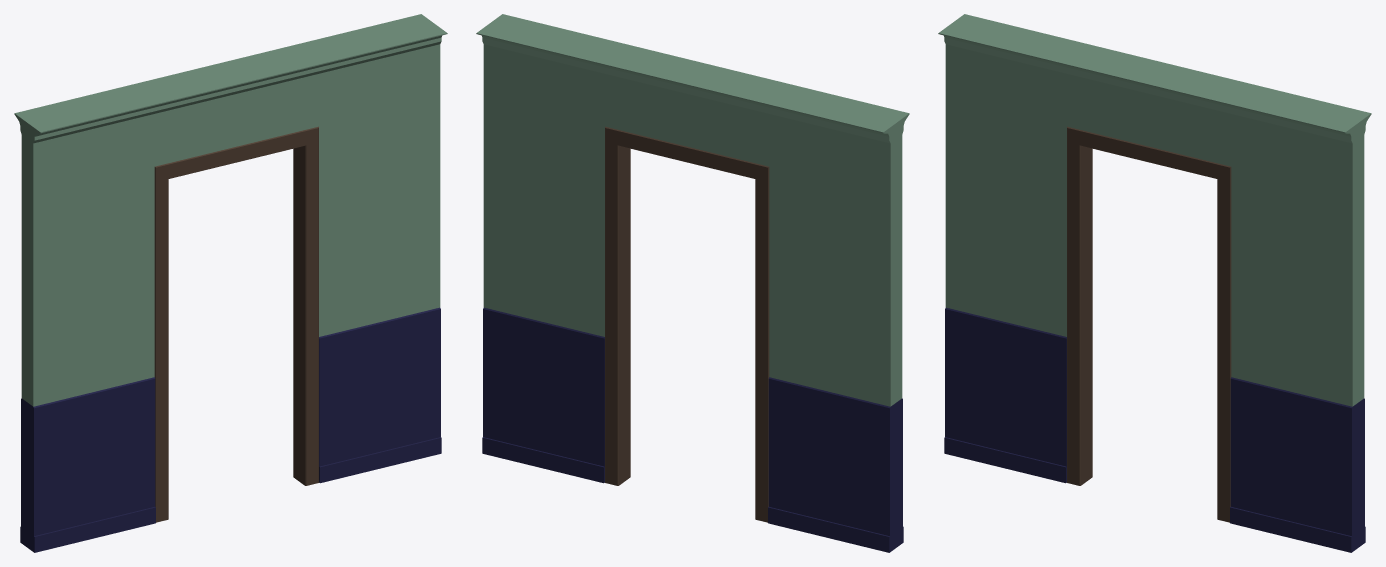
The model's file is door_frame.fbx.
The picture shows the model from 3 angles, left to right: view 1: azimuth 30°, elevation 25°; view 2: azimuth 150°, elevation 25°; view 3: azimuth 330°, elevation 25°; orthographic projection.
Parts seen in each view (by area): view 1: Cube.003; view 2: Cube.003; view 3: Cube.003.
Boxes of the visible parts, x1,y1,x2,y2 form: Cube.003: (14,14,447,552); Cube.003: (476,14,909,552); Cube.003: (938,14,1371,552).
Size of the model in its own units: 301 by 300 by 33.43.
